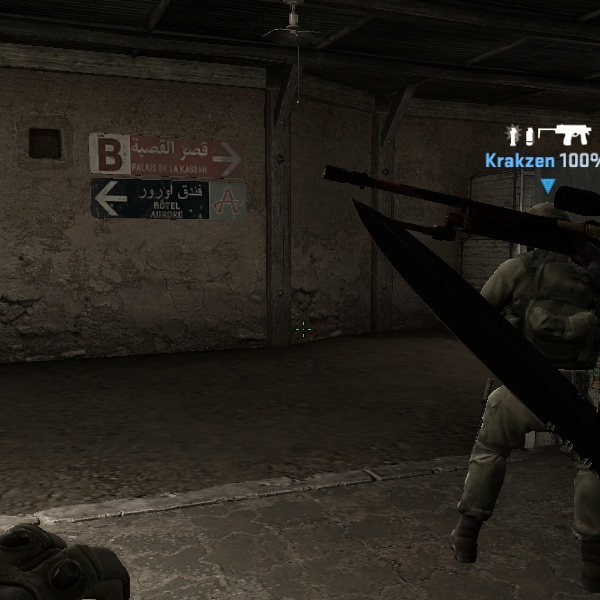ct_body: (445, 178, 597, 571)
ct_head: (514, 196, 593, 281)
